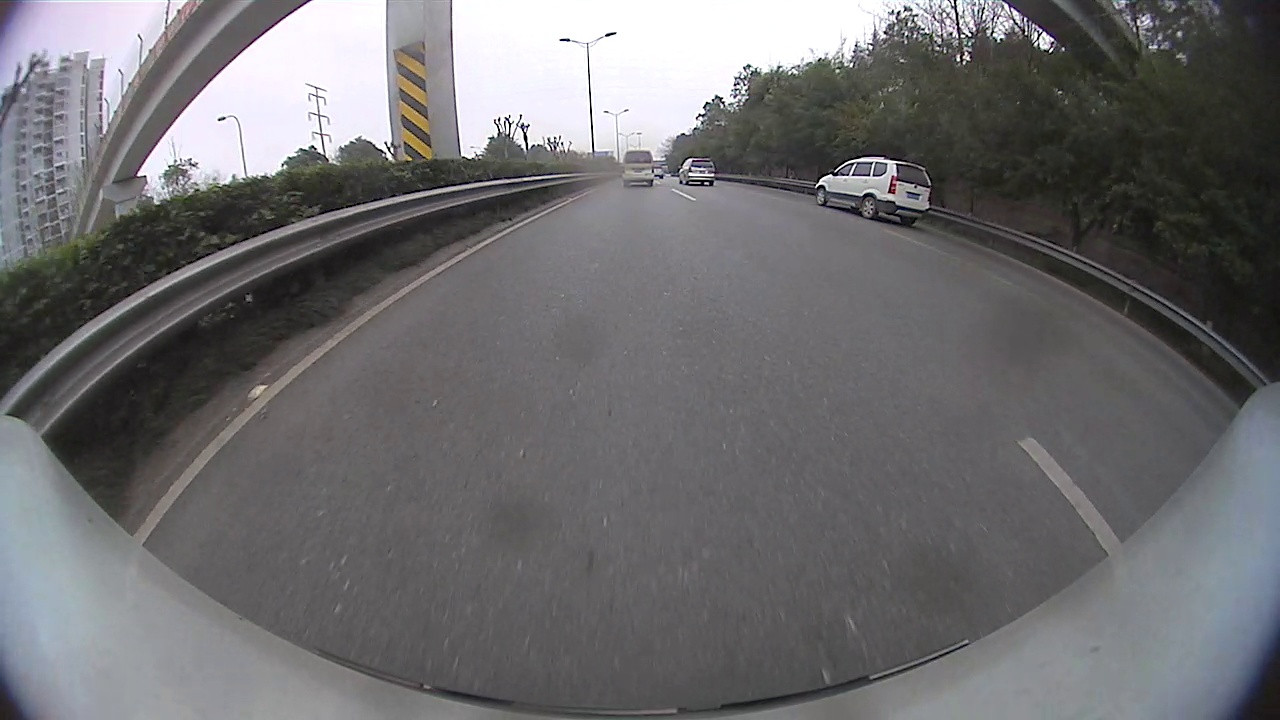car: (813, 156, 933, 225), (621, 150, 655, 188), (676, 155, 716, 187)
front: (815, 188, 828, 206)
rear: (861, 197, 878, 219)
